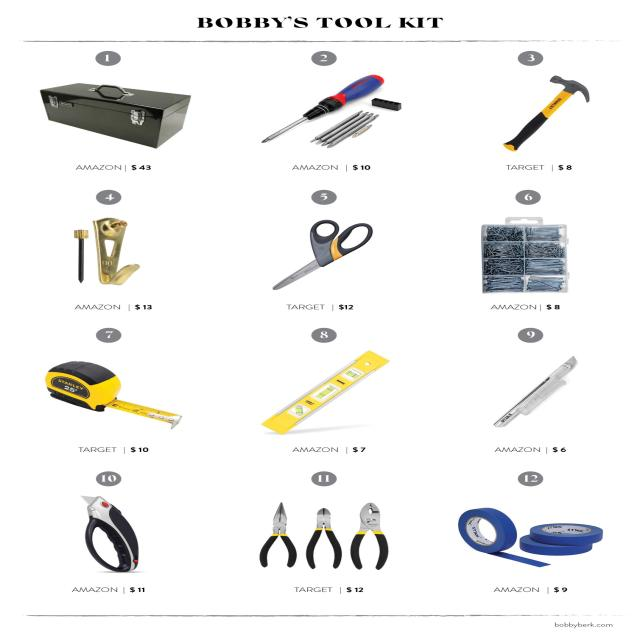Screwdriver: (263, 75, 384, 142)
